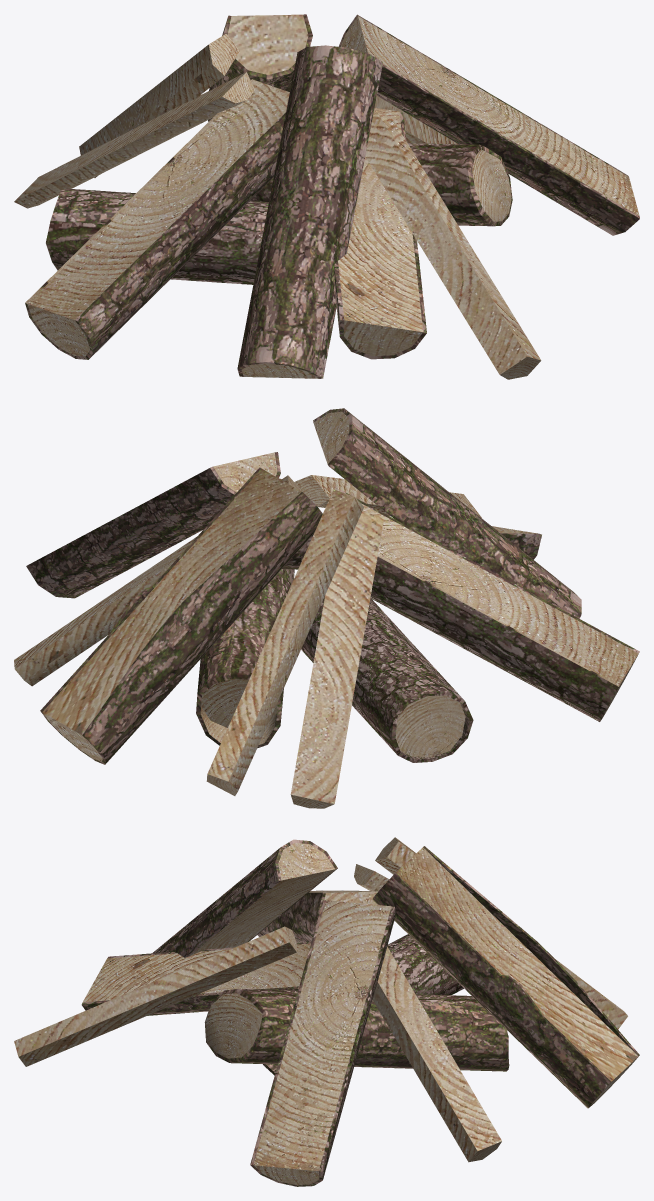
Rendered from D_Campfire_301.fbx.
3 renders of one model, top to bottom at view 1: azimuth 30°, elevation 25°; view 2: azimuth 150°, elevation 25°; view 3: azimuth 270°, elevation 25°, orthographic. The views are drawn at different scales.
Parts seen in each view (by area): view 1: D_Campfire_301; view 2: D_Campfire_301; view 3: D_Campfire_301.
Boxes of the visible parts, box(x1,y1,x2,y2) form: D_Campfire_301: box(14, 14, 639, 379); D_Campfire_301: box(14, 408, 639, 808); D_Campfire_301: box(14, 837, 639, 1186).
Bounding box in the file's own units: 0.8684 × 0.3536 × 0.8781.
